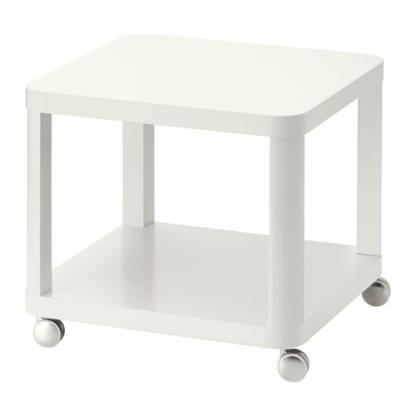Table: (18, 25, 394, 387)
